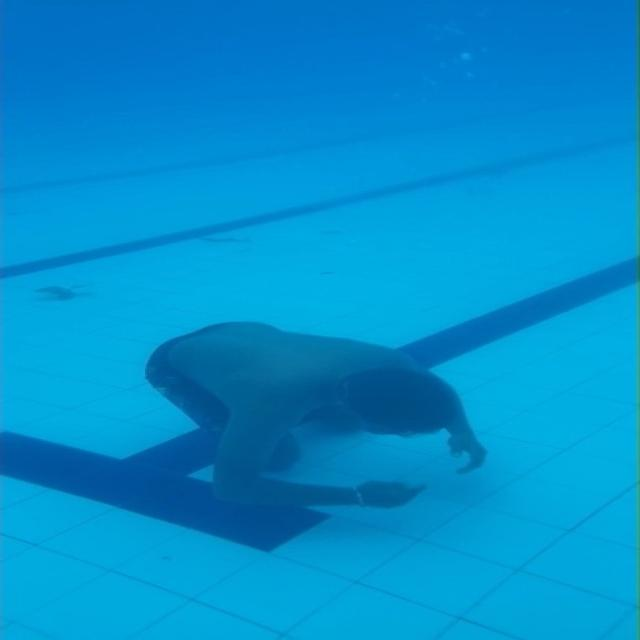Drowning: (145, 321, 487, 508)
